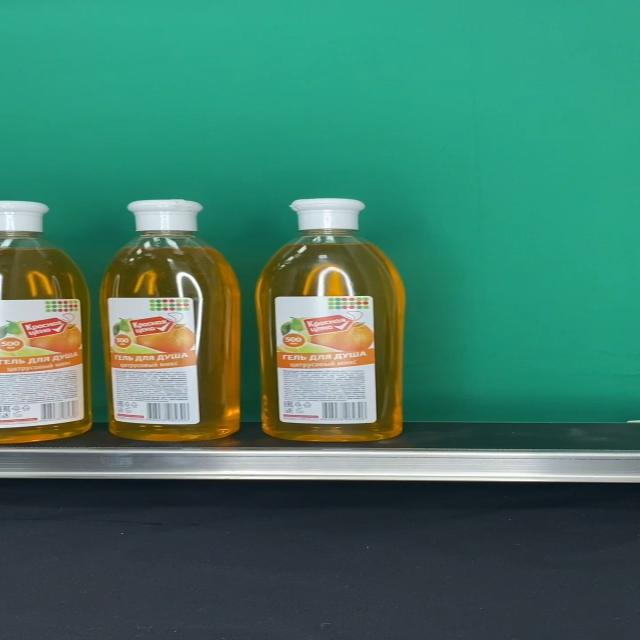Bottle: (256, 199, 407, 441), (100, 199, 242, 441)
Cap: (125, 199, 202, 232), (288, 198, 365, 230)
